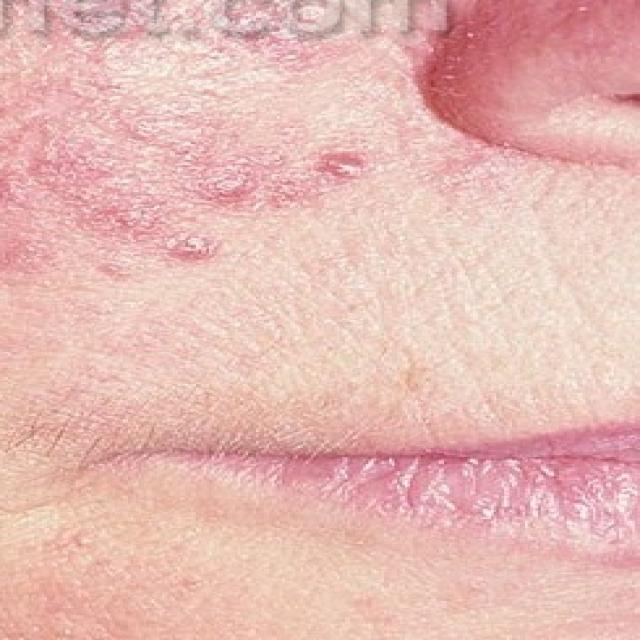Rosacea: (0, 85, 376, 267)
